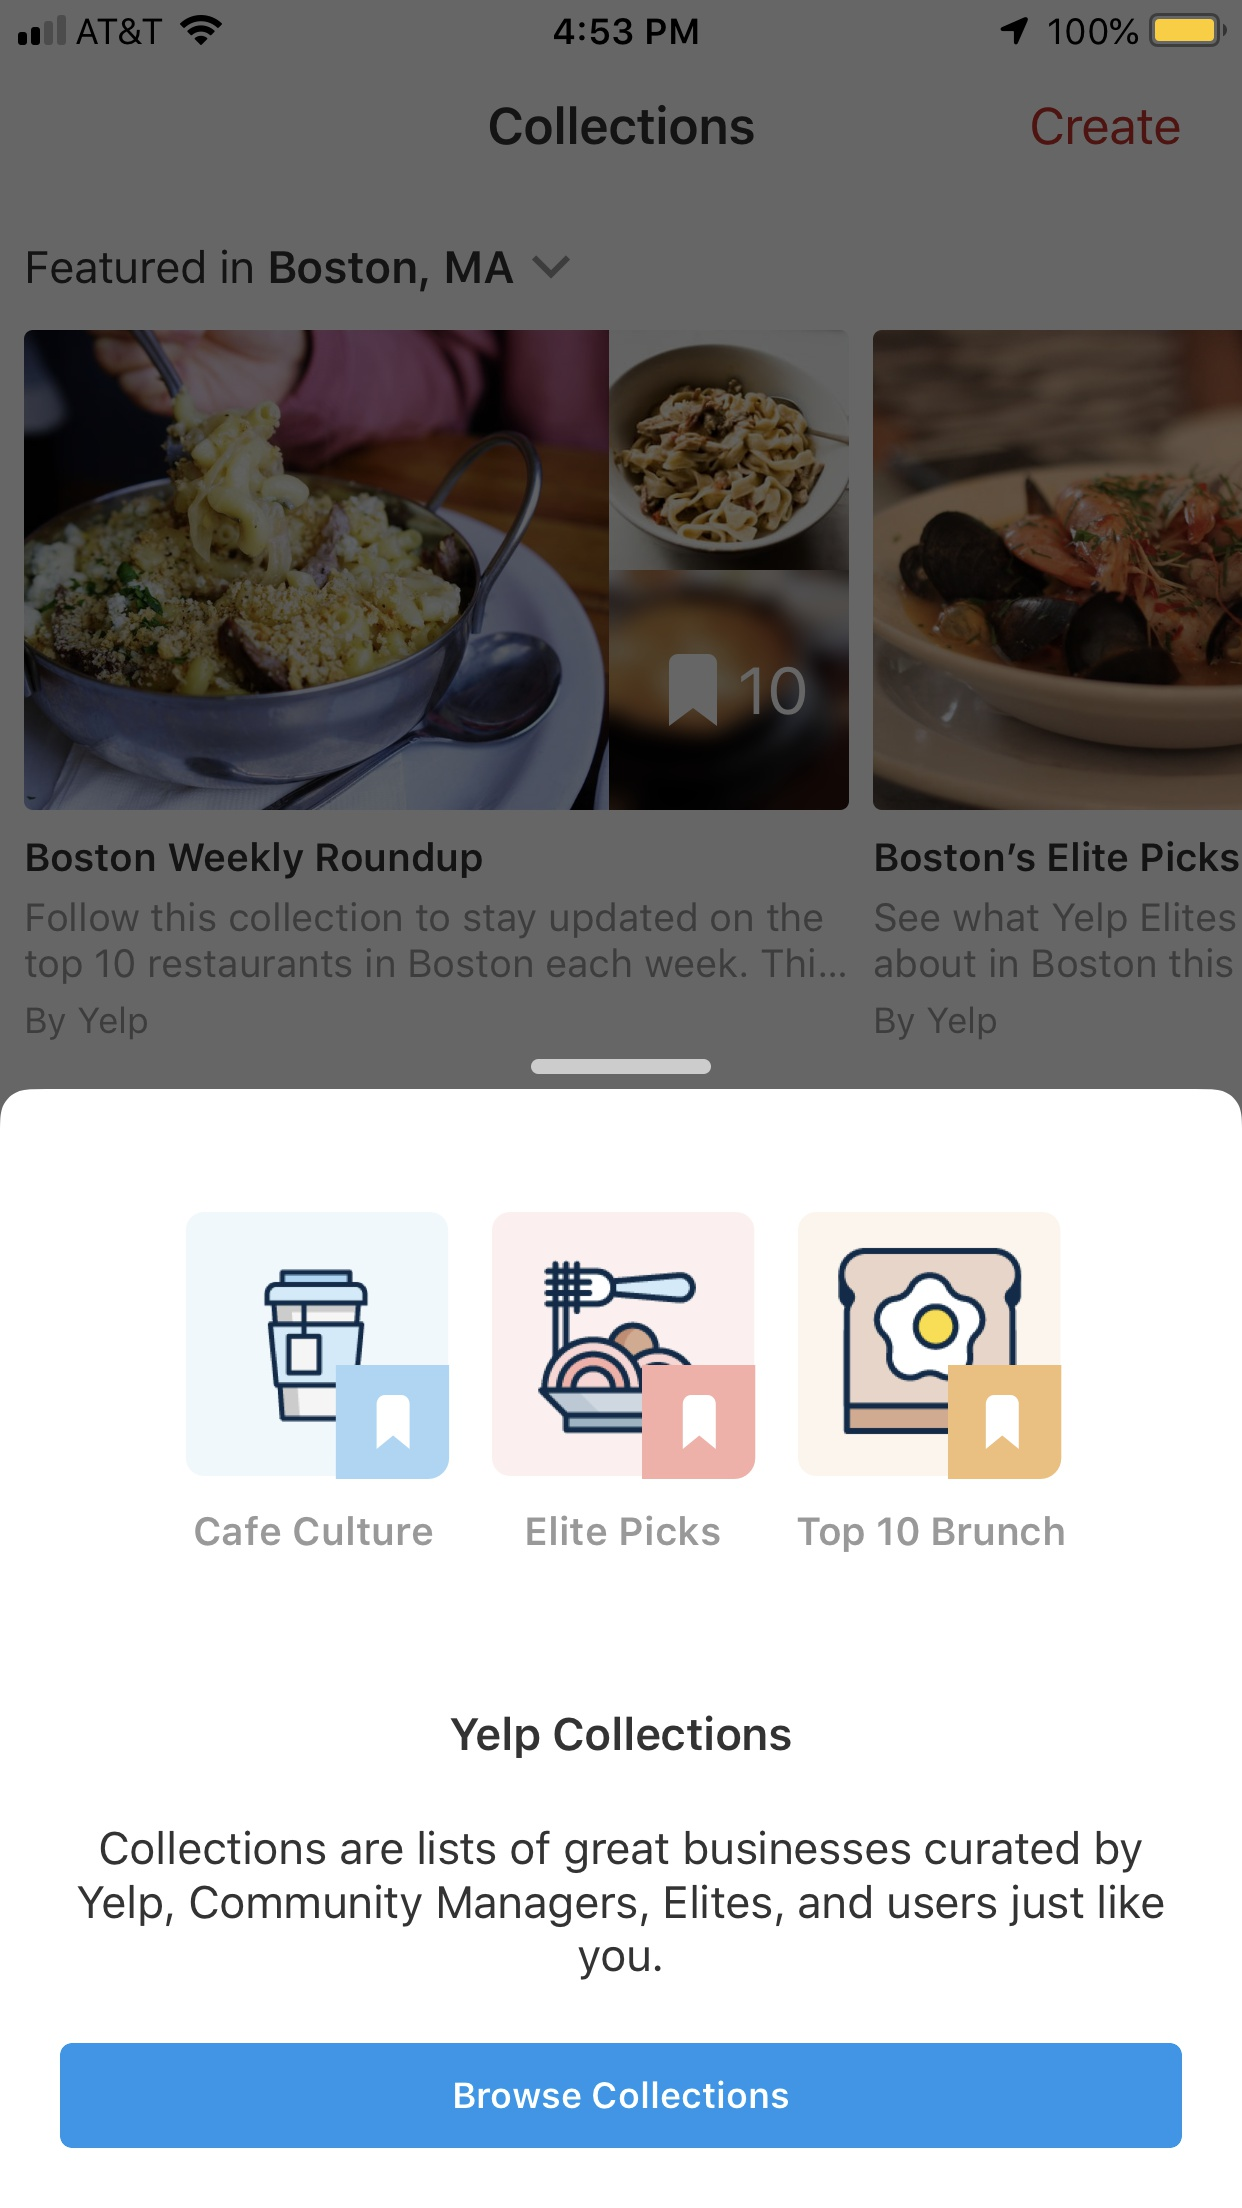Image: (491, 1212, 757, 1480), (187, 1212, 450, 1482), (798, 1212, 1062, 1480)
Modal: (2, 1087, 1242, 2208)
Text: (77, 1829, 1165, 1982), (450, 1714, 792, 1759), (796, 1515, 1065, 1553), (196, 1515, 434, 1547), (526, 1515, 720, 1547)
TextButton: (61, 2043, 1183, 2149)
UpperTaskBar: (2, 2, 1242, 49)
